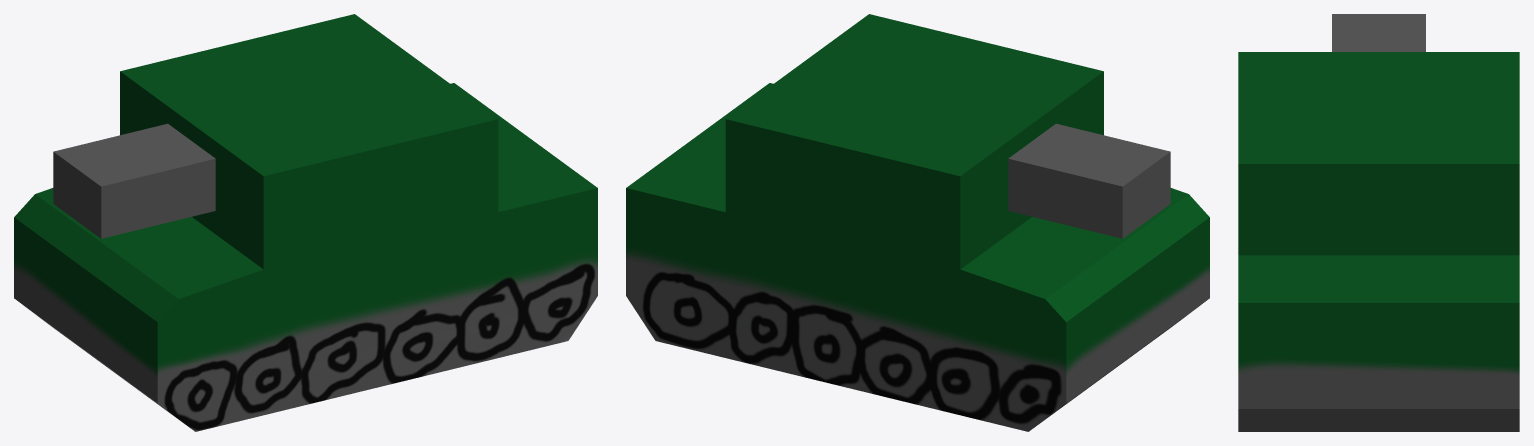
The model's file is tank.glb.
The picture shows the model from 3 angles, left to right: view 1: azimuth 30°, elevation 25°; view 2: azimuth 150°, elevation 25°; view 3: azimuth 270°, elevation 25°; orthographic projection.
Visible parts, largest first — view 1: Tank; view 2: Tank; view 3: Tank.
Boxes of the visible parts, box(x1,y1,x2,y2) form: Tank: box(14, 14, 597, 431); Tank: box(626, 14, 1209, 431); Tank: box(1238, 14, 1519, 431).
Size of the model in its own units: 6.91 by 3.52 by 3.83.
Materials: 1 (1 with a texture image).
